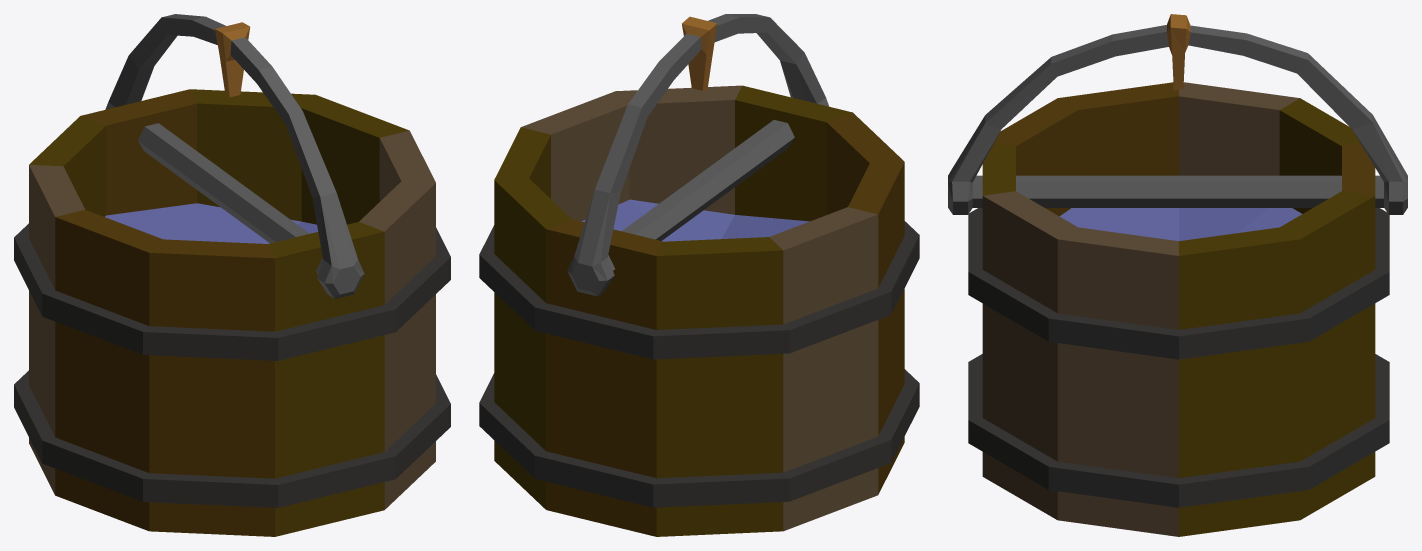
Rendered from Bucket.fbx.
The picture shows the model from 3 angles, left to right: view 1: azimuth 30°, elevation 25°; view 2: azimuth 150°, elevation 25°; view 3: azimuth 270°, elevation 25°; orthographic projection.
Parts seen in each view (by area): view 1: pCylinder2; view 2: pCylinder2; view 3: pCylinder2.
Boxes of the visible parts, bbox=[...] form: pCylinder2: bbox=[14, 14, 450, 536]; pCylinder2: bbox=[479, 14, 919, 536]; pCylinder2: bbox=[948, 14, 1407, 536].
Size of the model in its own units: 1.43 by 1.53 by 1.48.
